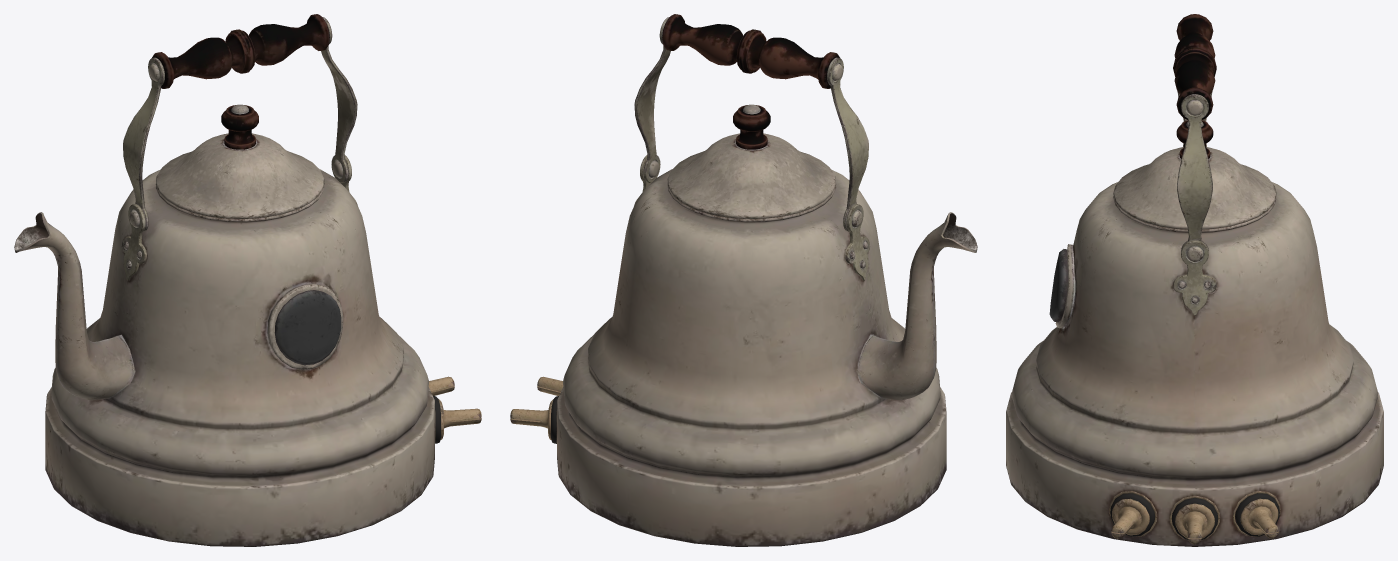
Rendered from vintage_electric_kettle.glb.
The picture shows the model from 3 angles, left to right: view 1: azimuth 30°, elevation 25°; view 2: azimuth 150°, elevation 25°; view 3: azimuth 270°, elevation 25°; orthographic projection. The views are drawn at different scales.
Visible parts, largest first — view 1: vintage_electric_kettle; view 2: vintage_electric_kettle; view 3: vintage_electric_kettle.
Boxes of the visible parts, x1=… form: vintage_electric_kettle: x1=14, y1=14, x2=481, y2=546; vintage_electric_kettle: x1=510, y1=14, x2=977, y2=546; vintage_electric_kettle: x1=1006, y1=14, x2=1383, y2=546.
Bounding box in the file's own units: 0.3209 × 0.3048 × 0.2486.
2 materials, 2 textured.
